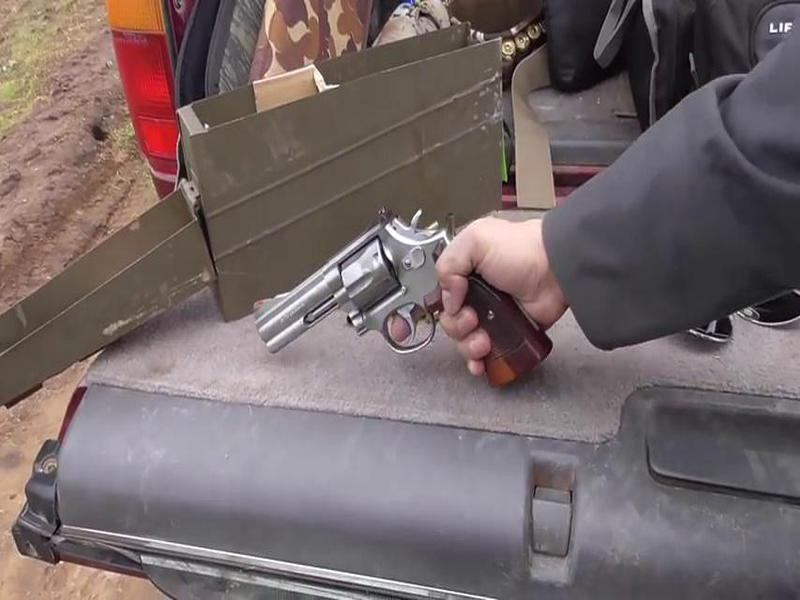Revolver: (255, 202, 481, 388)
